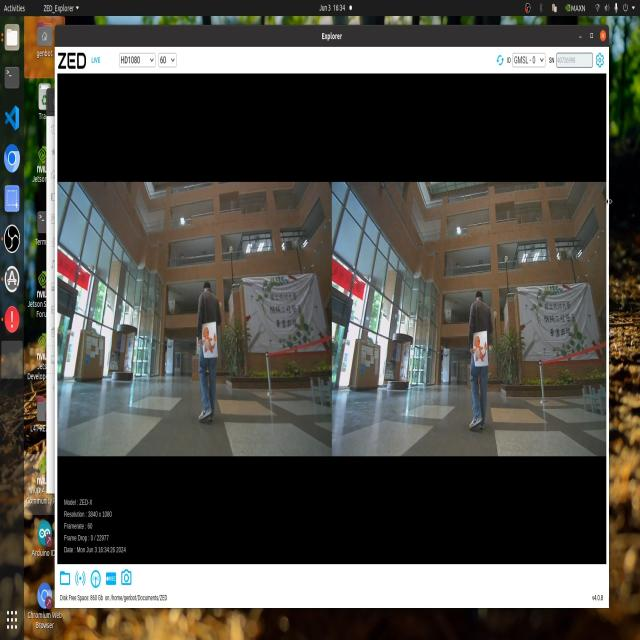red: (198, 320, 222, 360), (474, 336, 495, 368)
